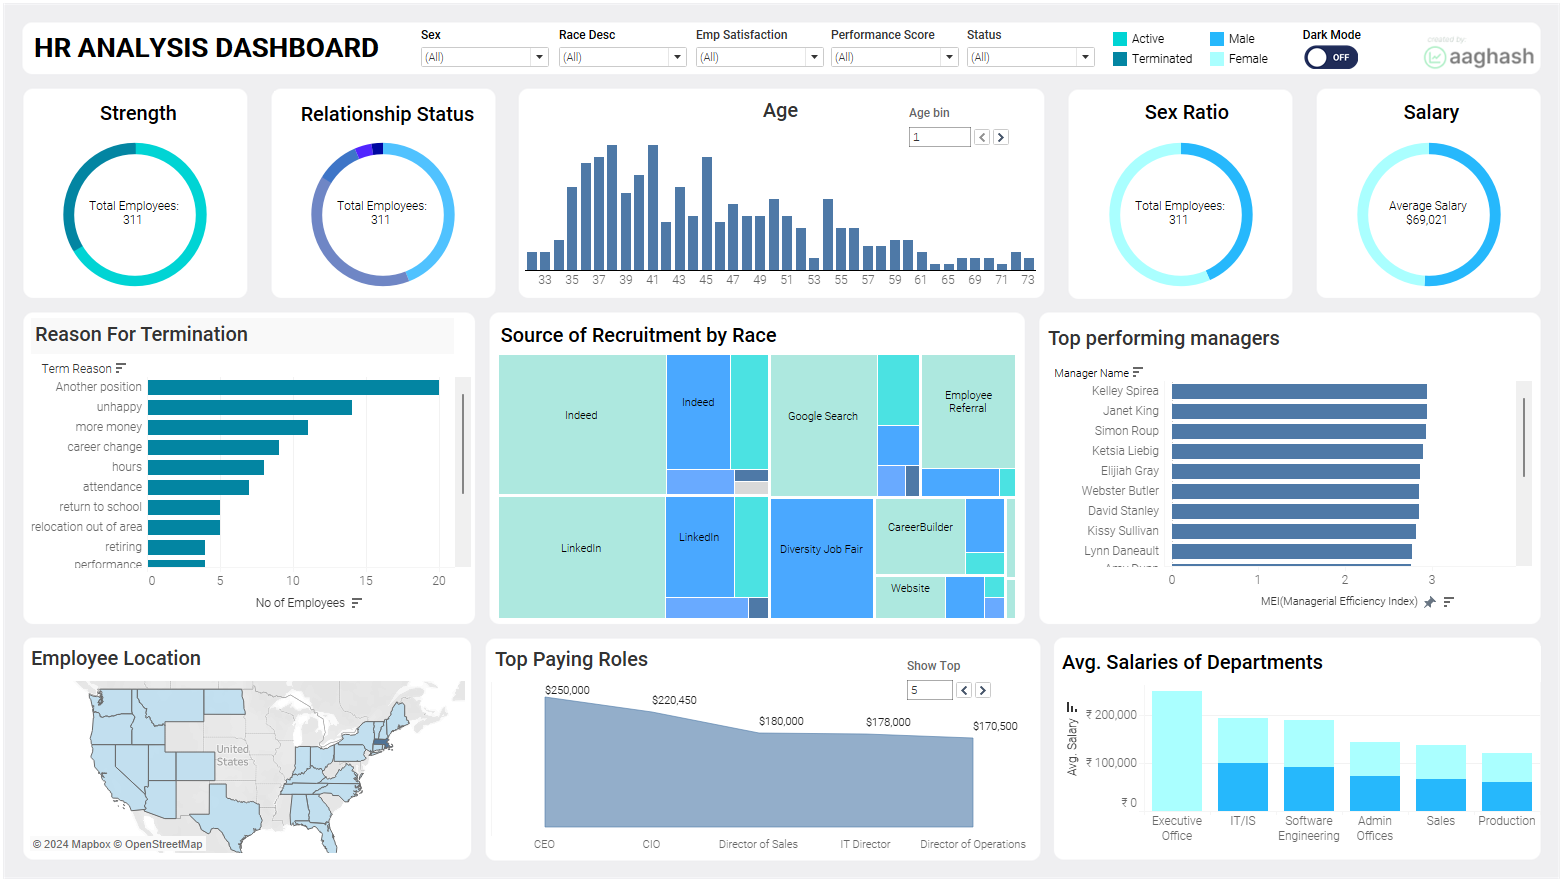

Layout of this report page (visuals, bound fields, positions):
{"tool":"tableau","page":{"name":"Dashboard x figma light","canvas":[1600,900],"ordinal":1},"visuals":[{"type":"image","param":"C:/Users/Aagash/Desktop/Tableau/HR datasets/HRV14/Light final1.png","box":[8,8,1584,884]},{"type":"text","box":[1309,35,89,18]},{"type":"text","box":[40,37,374,39]},{"type":"filter","title":"sex vs avg salary","param":"[federated.0qcuazf1k1gi1z1d82fyi19keg79].[none:Sex:nk]","box":[427,37,134,43]},{"type":"filter","title":"Recruitment source","param":"[federated.0qcuazf1k1gi1z1d82fyi19keg79].[none:RaceDesc:nk]","box":[565,37,134,43]},{"type":"filter","title":"sex vs avg salary","param":"[federated.0qcuazf1k1gi1z1d82fyi19keg79].[none:EmpSatisfaction:ok]","box":[702,37,134,45]},{"type":"filter","title":"term reason","param":"[federated.0qcuazf1k1gi1z1d82fyi19keg79].[none:PerformanceScore:nk]","box":[837,37,134,43]},{"type":"filter","title":"Active/terminated","param":"[federated.0qcuazf1k1gi1z1d82fyi19keg79].[none:Calculation_999517685632323585:nk","box":[973,37,134,43]},{"type":"image","param":"C:/Users/Aagash/Desktop/Tableau/HR datasets/HRV14/just transp .png","box":[1430,37,119,42]},{"type":"legend","title":"Active/terminated","param":"[federated.0qcuazf1k1gi1z1d82fyi19keg79].[none:Calculation_999517685632323585:nk","box":[1119,38,123,40]},{"type":"legend","title":"male:female ratio","param":"[federated.0qcuazf1k1gi1z1d82fyi19keg79].[none:Sex:nk]","box":[1216,38,87,40]},{"type":"dashboard-object","box":[1259,54,164,24]},{"type":"text","box":[46,100,188,44]},{"type":"text","box":[283,100,212,46]},{"type":"worksheet","title":"Age bins","mark":"Automatic","rows":["Calculation_1043990731963441152"],"cols":["Age (bin) 2"],"box":[534,103,511,198]},{"type":"text","box":[1083,103,211,36]},{"type":"text","box":[1328,104,210,34]},{"type":"parameter","param":"[Parameters].[Parameter 2]","box":[915,115,106,56]},{"type":"worksheet","title":"Active/terminated","mark":"Pie","rows":["Calculation_808396176398254084","Calculation_808396176398254084"],"box":[37,146,214,155]},{"type":"worksheet","title":"married Status","mark":"Pie","rows":["Calculation_808396176398254084","Calculation_808396176398254084"],"box":[285,146,214,155]},{"type":"worksheet","title":"male:female ratio","mark":"Pie","rows":["Calculation_808396176398254084","Calculation_808396176398254084"],"box":[1083,146,214,155]},{"type":"worksheet","title":"male:female avg salary final","mark":"Pie","rows":["Calculation_808396176398254084","Calculation_808396176398254084"],"box":[1331,146,214,155]},{"type":"text","box":[506,325,297,37]},{"type":"worksheet","title":"term reason","mark":"Automatic","rows":["TermReason"],"cols":["EmpID"],"box":[40,327,440,300]},{"type":"worksheet","title":"Top performing managers","mark":"Bar","rows":["ManagerName"],"cols":["Calculation_808396176391376896"],"box":[1053,331,488,294]},{"type":"worksheet","title":"Recruitment source","mark":"Automatic","box":[502,358,538,275]},{"type":"worksheet","title":"Geography","mark":"Multipolygon","box":[36,651,438,211]},{"type":"worksheet","title":"Top Paying roles","mark":"Area","rows":["Salary"],"cols":["Position"],"box":[500,652,543,212]},{"type":"worksheet","title":"sex vs avg salary","mark":"Bar","rows":["Salary"],"cols":["Department"],"box":[1067,655,483,205]},{"type":"parameter","param":"[Parameters].[Parameter 4]","box":[913,668,90,47]}]}

Visuals, with their boxes in screenshot pixels (x1, y1, x2, y2), scaled from the page's 1600x900 canvas onto the 1563x880 screenshot:
image: bbox(8, 8, 1555, 872)
text: bbox(1279, 34, 1366, 52)
text: bbox(39, 36, 404, 74)
"sex vs avg salary" filter: bbox(417, 36, 548, 78)
"Recruitment source" filter: bbox(552, 36, 683, 78)
"sex vs avg salary" filter: bbox(686, 36, 817, 80)
"term reason" filter: bbox(818, 36, 949, 78)
"Active/terminated" filter: bbox(950, 36, 1081, 78)
image: bbox(1397, 36, 1513, 77)
"Active/terminated" legend: bbox(1093, 37, 1213, 76)
"male:female ratio" legend: bbox(1188, 37, 1273, 76)
dashboard-object: bbox(1230, 53, 1390, 76)
text: bbox(45, 98, 229, 141)
text: bbox(276, 98, 484, 143)
"Age bins" worksheet: bbox(522, 101, 1021, 294)
text: bbox(1058, 101, 1264, 136)
text: bbox(1297, 102, 1502, 135)
parameter: bbox(894, 112, 997, 167)
"Active/terminated" worksheet (Pie marks): bbox(36, 143, 245, 294)
"married Status" worksheet (Pie marks): bbox(278, 143, 487, 294)
"male:female ratio" worksheet (Pie marks): bbox(1058, 143, 1267, 294)
"male:female avg salary final" worksheet (Pie marks): bbox(1300, 143, 1509, 294)
text: bbox(494, 318, 784, 354)
"term reason" worksheet: bbox(39, 320, 469, 613)
"Top performing managers" worksheet (Bar marks): bbox(1029, 324, 1505, 611)
"Recruitment source" worksheet: bbox(490, 350, 1016, 619)
"Geography" worksheet (Multipolygon marks): bbox(35, 637, 463, 843)
"Top Paying roles" worksheet (Area marks): bbox(488, 638, 1019, 845)
"sex vs avg salary" worksheet (Bar marks): bbox(1042, 640, 1514, 841)
parameter: bbox(892, 653, 980, 699)
